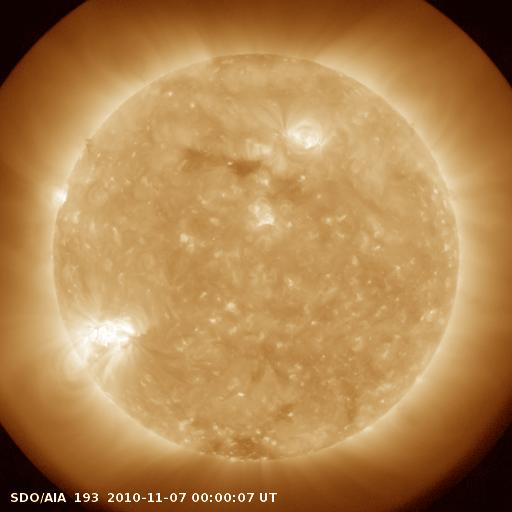coronal_hole: (182, 146, 277, 182)
